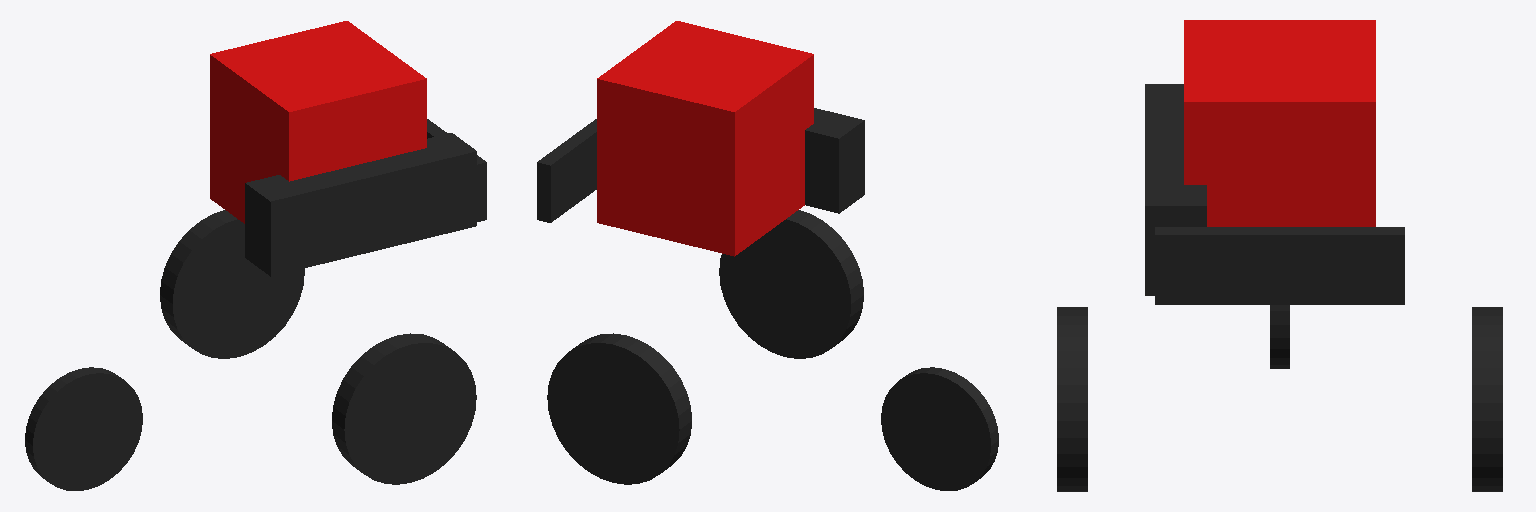
The robot description file, URDF, robot "mobilerobot":
<?xml version="1.0"?>
<robot name="mobilerobot">
  <material name="black">
    <color rgba="0.2 0.2 0.2 1"/>
  </material>
  <material name="grey">
    <color rgba="0.75 0.75 0.75 1"/>
  </material>

  <gazebo>
    <plugin name="differential_drive_controller" filename="libgazebo_ros_diff_drive.so">
      <leftJoint>left_wheel_joint</leftJoint>
      <rightJoint>right_wheel_joint</rightJoint>
      <robotBaseFrame>base_link</robotBaseFrame>
      <wheelSeparation>0.108</wheelSeparation>
      <wheelDiameter>0.024</wheelDiameter>
      <publishWheelJointState>true</publishWheelJointState>
      <legacyMode>false</legacyMode>
    </plugin>
    <plugin name="joint_state_publisher" filename="libgazebo_ros_joint_state_publisher.so">
      <jointName>caster_support_joint, caster_wheel_joint</jointName>
    </plugin>
  </gazebo>
  <link name="base_link">
    <visual>
      <geometry>
        <mesh filename="package://mobile_robot_description/meshes/raspi_mouse_body.stl"/>
      </geometry>
      <material name="grey"/>
      <origin xyz="-0.041 -0.05 -0.02575" rpy="0 0 0"/>
    </visual>
        <visual name="regulators">
      <geometry>
        <box size="0.005 0.065 0.02"/>
      </geometry>
      <origin xyz="0.04 0 0.036" rpy="0 0 0"/>
      <material name="black"/>
    </visual>
    <visual name="connector">
      <geometry>
        <box size="0.075 0.016 0.026"/>
      </geometry>
      <origin xyz="0 -0.027 0.039" rpy="0 0 0"/>
      <material name="black"/>
    </visual>
        <collision>
      <geometry>
        <box size="0.13 0.1 0.078"/>
      </geometry>
      <origin xyz="0 0 0.013" rpy="0 0 0"/>
    </collision>
    <inertial>
      <origin xyz="0 0 0.013" rpy="0 0 0"/>
      <mass value="0.25"/>
      <inertia ixx="0.0003350833" ixy="0" ixz="0"
        iyy="0.000560417" iyz="0"
        izz="0.000478833"/>
    </inertial>
  </link>

    <link name="caster_support">
    <visual>
      <geometry>
        <mesh filename="package://mobile_robot_description/meshes/mobile_robot_caster.stl"/>
      </geometry>
      <origin xyz="0 0 0" rpy="0 0 0"/>
    </visual>
    <collision>
      <geometry>
        <box size="0.04 0.009 0.025"/>
      </geometry>
      <origin xyz="-0.015 0 0" rpy="0 0 0"/>
    </collision>
    <inertial>
      <origin xyz="-0.009725 0 -0.00097398" rpy="0 0 0"/>
      <mass value="0.1"/>
      <inertia ixx="2.677264e-5" ixy="0" ixz="0"
        iyy="7.476213e-5" iyz="0"
        izz="5.655266e-5"/>
    </inertial>
  </link>

  <joint name="caster_support_joint" type="continuous">
    <axis xyz="0 0 1"/>
    <parent link="base_link"/>
    <child link="caster_support"/>
    <origin xyz="-0.065 0 -0.01" rpy="0 0 0"/>
  </joint>

    <link name="caster_wheel">
    <visual>
      <geometry>
        <cylinder length="0.005" radius="0.02"/>
      </geometry>
      <material name="black"/>
    </visual>
    <collision>
      <geometry>
        <cylinder length="0.005" radius="0.02"/>
      </geometry>
    </collision>
    <inertial>
      <mass value="0.1"/>
      <inertia ixx="1.02083e-5" ixy="0" ixz="0"
        iyy="1.02083e-5" iyz="0"
        izz="2e-5"/>
    </inertial>
  </link>

  <joint name="caster_wheel_joint" type="continuous">
    <axis xyz="0 0 1"/>
    <parent link="caster_support"/>
    <child link="caster_wheel"/>
    <origin xyz="-0.02 0 -0.02" rpy="-1.5708 0 0"/>
  </joint>

    <link name="right_wheel">
    <visual>
      <geometry>
        <cylinder length="0.008" radius="0.024"/>
      </geometry>
      <material name="black"/>
    </visual>
    <collision>
      <geometry>
        <cylinder length="0.008" radius="0.024"/>
      </geometry>
    </collision>
    <inertial>
      <mass value="0.1"/>
      <inertia ixx="1.49333e-5" ixy="0" ixz="0"
        iyy="1.49333e-5" iyz="0"
        izz="2.88e-5"/>
    </inertial>
  </link>

  <joint name="right_wheel_joint" type="continuous">
    <axis xyz="0 0 1"/>
    <parent link="base_link"/>
    <child link="right_wheel"/>
    <origin xyz="0 0.054 -0.021" rpy="-1.5708 0 0"/>
  </joint>

  <link name="left_wheel">
    <visual>
      <geometry>
        <cylinder length="0.008" radius="0.024"/>
      </geometry>
      <material name="black"/>
    </visual>
    <collision>
      <geometry>
        <cylinder length="0.008" radius="0.024"/>
      </geometry>
    </collision>
    <inertial>
      <mass value="0.1"/>
      <inertia ixx="1.49333e-5" ixy="0" ixz="0"
        iyy="1.49333e-5" iyz="0"
        izz="2.88e-5"/>
    </inertial>
  </link>

  <joint name="left_wheel_joint" type="continuous">
    <axis xyz="0 0 1"/>
    <parent link="base_link"/>
    <child link="left_wheel"/>
    <origin xyz="0 -0.054 -0.021" rpy="-1.5708 0 0"/>
  </joint>

    <link name="laser">
    <visual>
      <geometry>
        <box size="0.05 0.05 0.05"/>
      </geometry>
      <material name="red">
        <color rgba="0.9 0.1 0.1 1"/>
      </material>
    </visual>
    <collision>
      <geometry>
        <box size="0.05 0.05 0.05"/>
      </geometry>
    </collision>
    <inertial>
      <mass value="0.6"/>
      <inertia ixx="1e-3" ixy="0" ixz="0"
        iyy="1e-3" iyz="0"
        izz="1e-3"/>
    </inertial>
  </link>

  <joint name="laser_joint" type="fixed">
    <parent link="base_link"/>
    <child link="laser"/>
    <origin xyz="0 0 0.051" rpy="0 0 0"/>
  </joint>

  <gazebo reference="laser">
    <sensor type="gpu_ray" name="laser">
      <pose>0 0 0 0 0 0</pose>
      <visualize>true</visualize>
      <update_rate>40</update_rate>
      <ray>
        <scan>
          <horizontal>
            <samples>720</samples>
            <resolution>1</resolution>
            <min_angle>-1.570796</min_angle>
            <max_angle>1.570796</max_angle>
          </horizontal>
        </scan>
        <range>
          <min>0.1</min>
          <max>30.0</max>
          <resolution>0.01</resolution>
        </range>
      </ray>
      <plugin name="gpu_laser" filename="libgazebo_ros_gpu_laser.so">
        <topicName>/scan</topicName>
        <frameName>laser</frameName>
      </plugin>
    </sensor>
  </gazebo>
</robot>

--- Render facts (derived) ---
3 views of the same robot in one strip: view 1: azimuth 30°, elevation 25°; view 2: azimuth 150°, elevation 25°; view 3: azimuth 270°, elevation 25° (orthographic).
Model mobilerobot with 6 links and 5 joints (4 continuous, 1 fixed), rooted at base_link, posed all joints at 0.
Links seen in each view (by area): view 1: laser, base_link, left_wheel, right_wheel, caster_wheel; view 2: laser, right_wheel, left_wheel, caster_wheel, base_link; view 3: laser, base_link, right_wheel, left_wheel, caster_wheel.
Boxes of the visible links, bbox=[...] form: laser: bbox=[210, 21, 426, 223]; base_link: bbox=[245, 119, 486, 276]; left_wheel: bbox=[332, 333, 476, 484]; right_wheel: bbox=[160, 210, 304, 358]; caster_wheel: bbox=[25, 367, 142, 490]; laser: bbox=[597, 21, 813, 256]; right_wheel: bbox=[547, 333, 691, 484]; left_wheel: bbox=[719, 210, 863, 358]; caster_wheel: bbox=[881, 367, 998, 490]; base_link: bbox=[537, 108, 864, 222]; laser: bbox=[1184, 20, 1375, 226]; base_link: bbox=[1145, 84, 1404, 304]; right_wheel: bbox=[1472, 307, 1502, 491]; left_wheel: bbox=[1057, 307, 1087, 491]; caster_wheel: bbox=[1270, 305, 1289, 368].
Bounding box of the posed robot: 0.1475 × 0.116 × 0.126 m (x, y, z).
Meshes: 2 distinct files referenced, 0 mesh visuals loaded (none loaded); not drawn: 2 (reference not matched to a file when rendering).